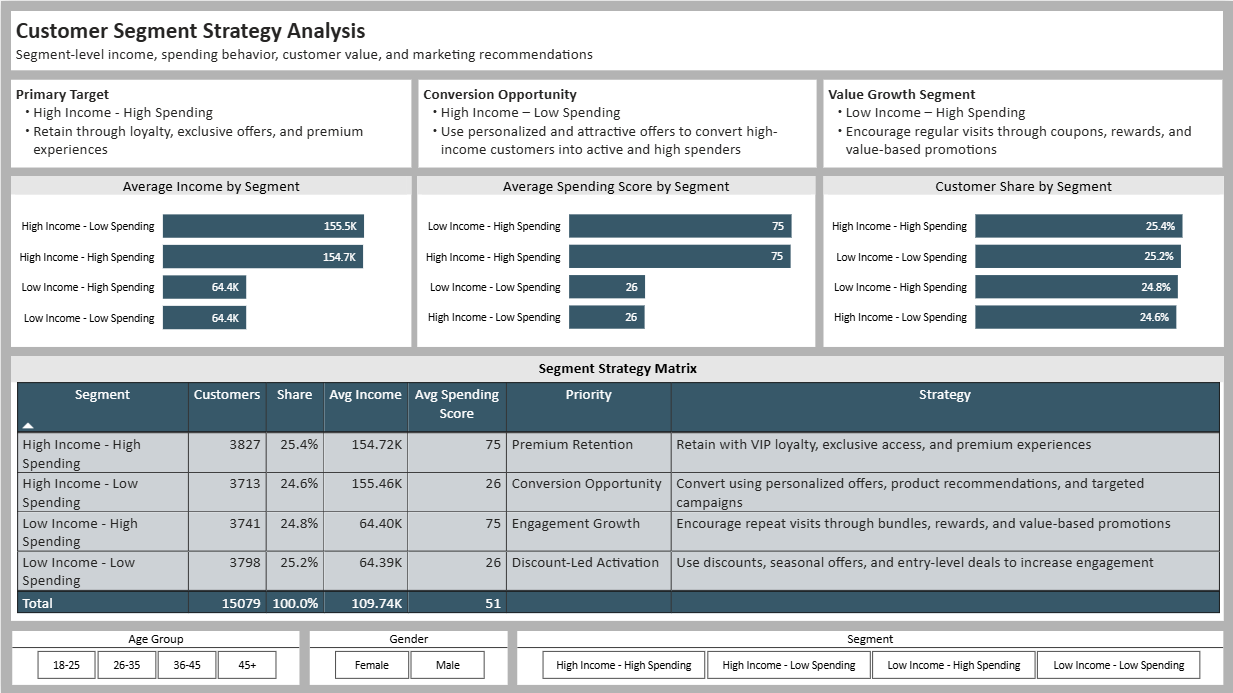

The page's visual inventory and layout, read from the dashboard file:
{"tool":"powerbi","page":{"name":"Segment Strategy","canvas":[1280,720],"ordinal":1},"visuals":[{"type":"textbox","box":[10.3,10.3,1258.8,61.8],"z":0},{"type":"textbox","box":[10.3,82.4,416.2,91.2],"z":1000},{"type":"textbox","box":[433.8,82.4,413.2,91.2],"z":2000},{"type":"textbox","box":[854.4,82.4,414.7,91.2],"z":3000},{"type":"clusteredBarChart","title":"Average Income by Segment","fields":{"Category":["Shopping Mall Customer Segmentation Data.Segment"],"Y":["Shopping Mall Customer Segmentation Data.Avg Income"]},"box":[10.3,182.4,416.2,177.9],"z":4000},{"type":"clusteredBarChart","title":"Average Spending Score by Segment","fields":{"Category":["Shopping Mall Customer Segmentation Data.Segment"],"Y":["Shopping Mall Customer Segmentation Data.Avg Spending Score"]},"box":[433.1,182.2,413.8,177.3],"z":5000},{"type":"clusteredBarChart","title":"Customer Share by Segment","fields":{"Category":["Shopping Mall Customer Segmentation Data.Segment"],"Y":["Shopping Mall Customer Segmentation Data.Segment Share"]},"box":[854.2,182.2,416.2,177.3],"z":6000},{"type":"tableEx","title":"Segment Strategy Matrix","fields":{"Values":["Shopping Mall Customer Segmentation Data.Segment","Shopping Mall Customer Segmentation Data.Total Customers","Shopping Mall Customer Segmentation Data.Segment Share","Shopping Mall Customer Segmentation Data.Avg Income","Shopping Mall Customer Segmentation Data.Avg Spending Score","Shopping Mall Customer Segmentation Data.Segment Priority","Shopping Mall Customer Segmentation Data.Recommended Strategy"]},"box":[10.3,369.1,1260.3,275],"z":7000},{"type":"slicer","title":"Segment","fields":{"Values":["Shopping Mall Customer Segmentation Data.Segment"]},"box":[536.8,654.4,733.8,55.9],"z":8000},{"type":"slicer","title":"Gender","fields":{"Values":["Shopping Mall Customer Segmentation Data.Gender"]},"box":[320.6,654.4,205.9,55.9],"z":9000},{"type":"slicer","title":"Age Group","fields":{"Values":["Shopping Mall Customer Segmentation Data.Age Group"]},"box":[11.8,654.4,298.5,55.9],"z":10000}]}

Visuals, with their boxes in screenshot pixels (x1, y1, x2, y2), scaled from the page's 1280x720 canvas onto the 1233x693 screenshot:
textbox: (10,10,1223,69)
textbox: (10,79,411,167)
textbox: (418,79,816,167)
textbox: (823,79,1223,167)
"Average Income by Segment" clusteredBarChart: (10,176,411,347)
"Average Spending Score by Segment" clusteredBarChart: (417,175,816,346)
"Customer Share by Segment" clusteredBarChart: (823,175,1224,346)
"Segment Strategy Matrix" tableEx: (10,355,1224,620)
"Segment" slicer: (517,630,1224,684)
"Gender" slicer: (309,630,507,684)
"Age Group" slicer: (11,630,299,684)
